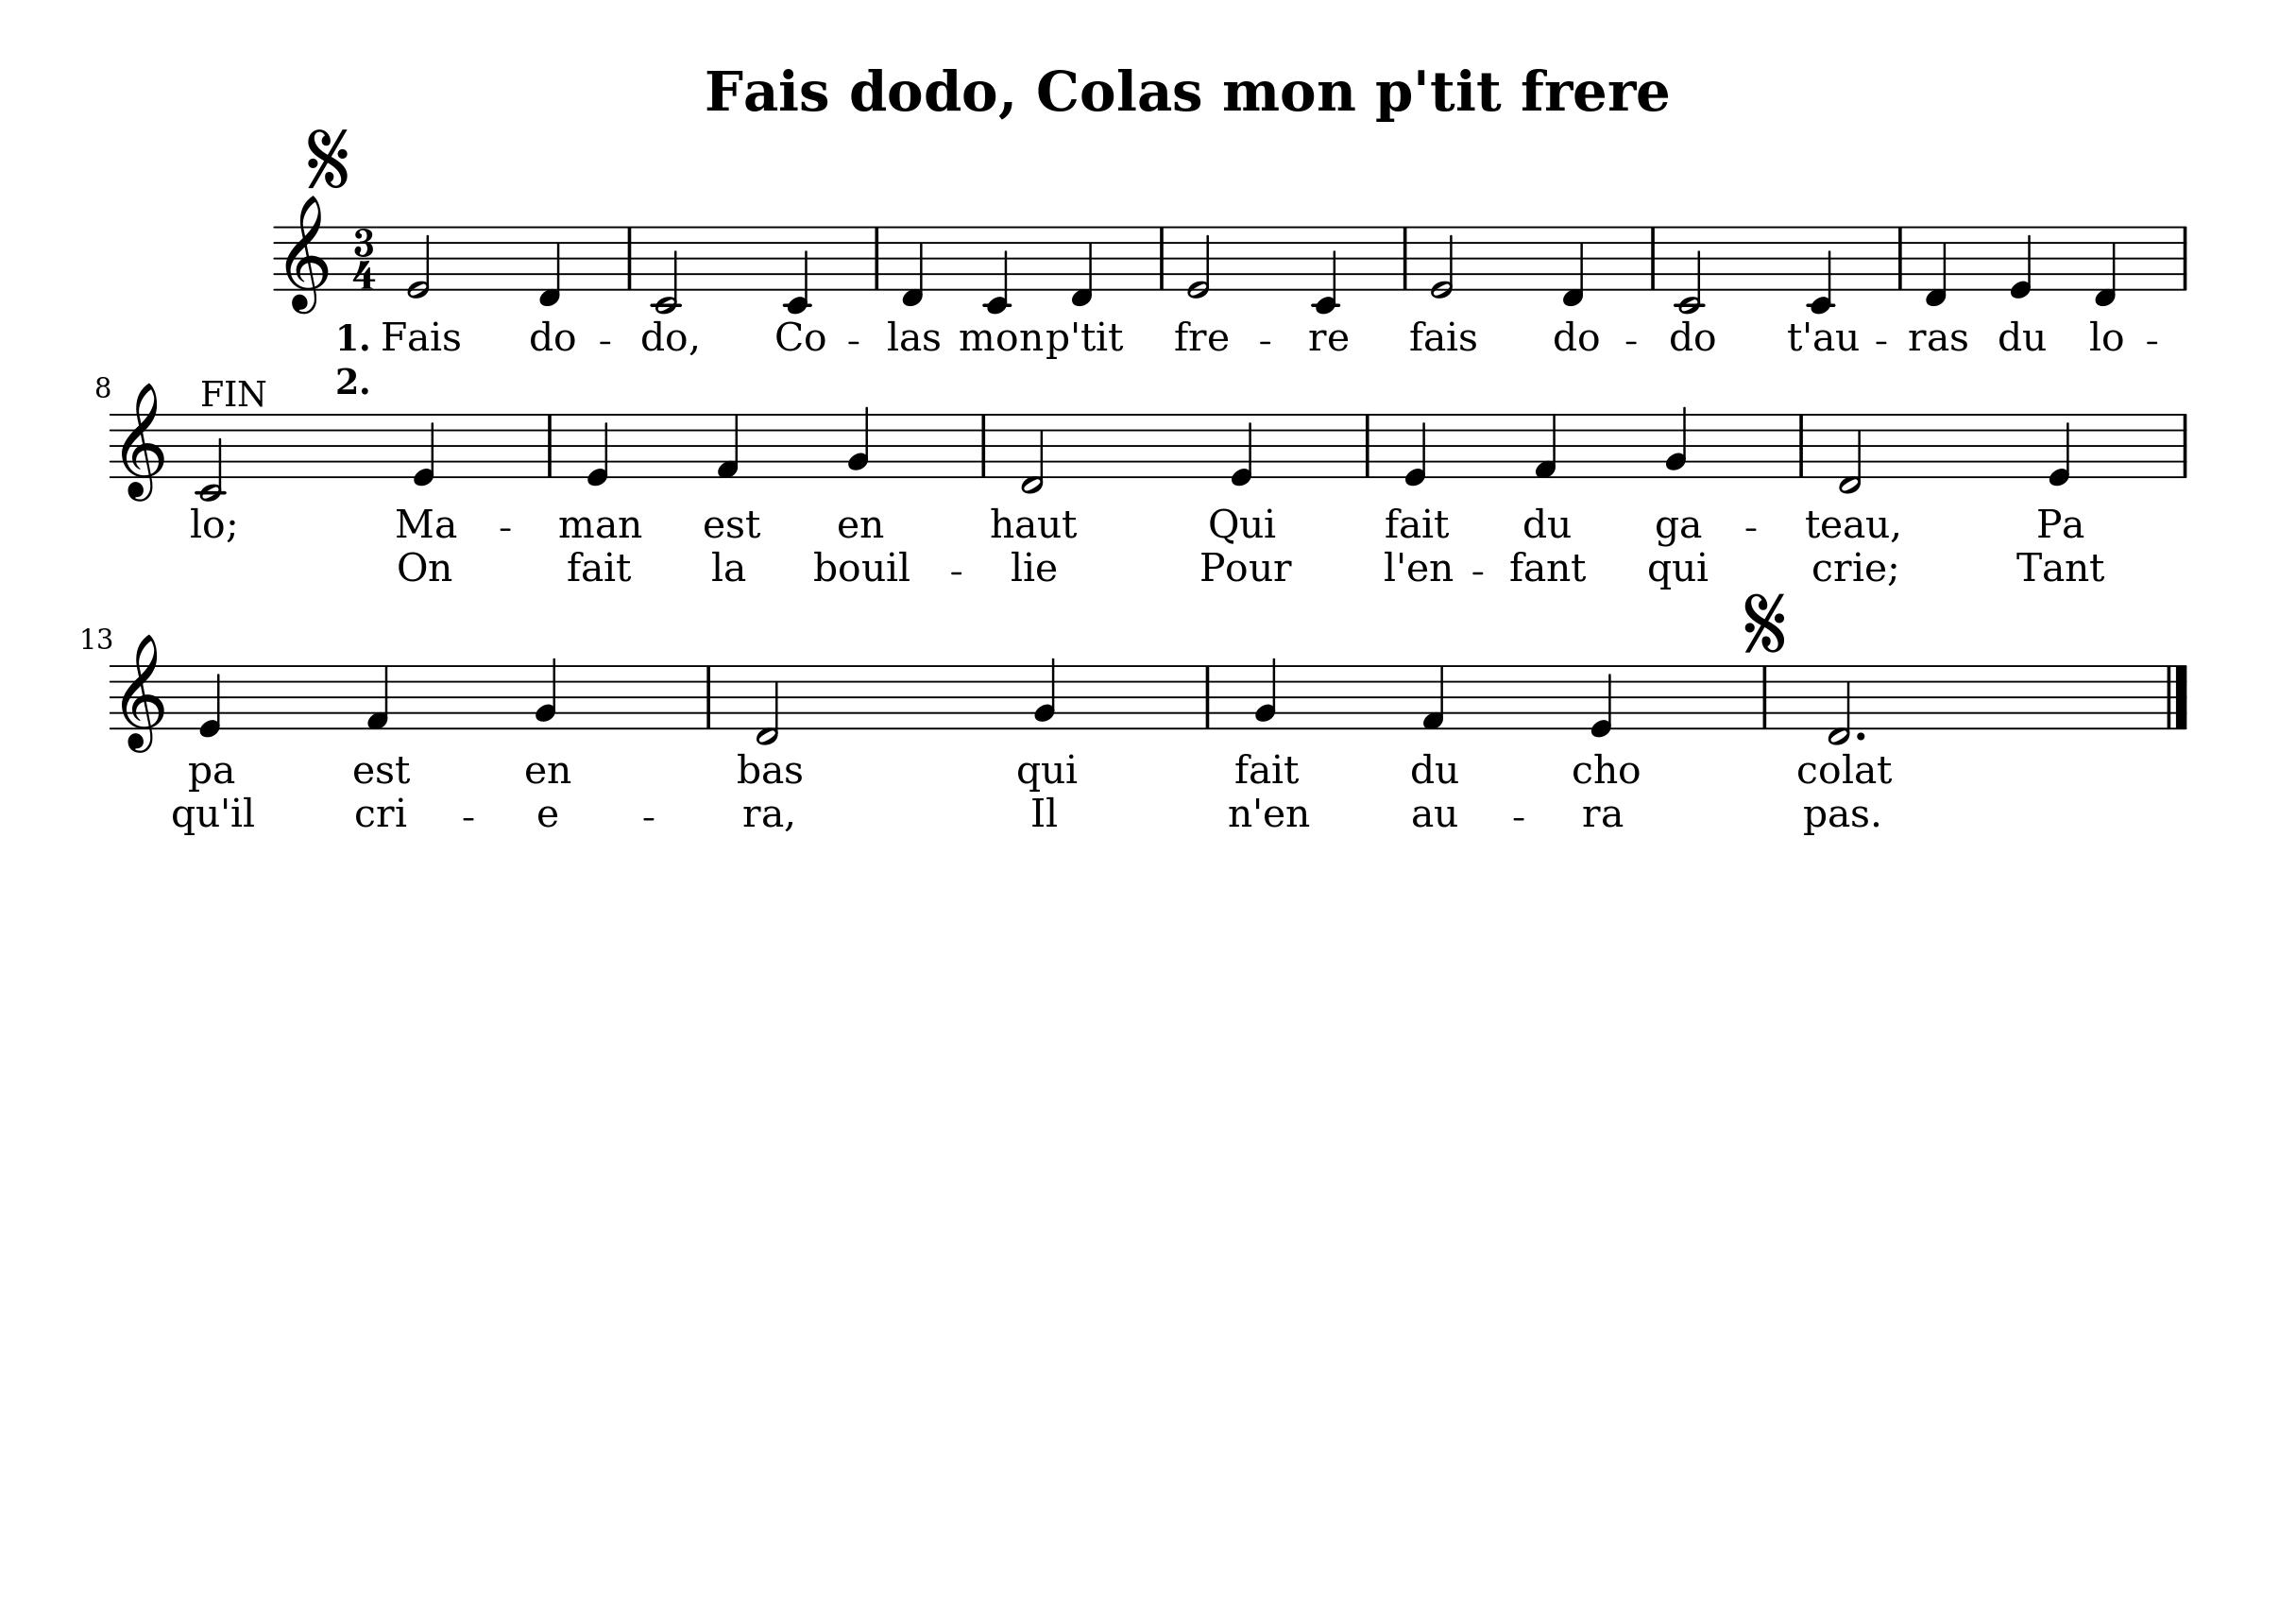1: (79, 624, 93, 652)
2_-1: (754, 661, 782, 747), (1019, 411, 1047, 496), (1836, 411, 1864, 496), (1825, 663, 1853, 745)
2_-2: (197, 411, 227, 503), (653, 223, 682, 315), (1676, 223, 1704, 315)
2_0: (406, 223, 432, 299), (1186, 223, 1212, 299), (1430, 223, 1456, 299)
3: (350, 223, 378, 255), (97, 624, 114, 650)
4: (350, 255, 381, 286)
4_-1: (538, 223, 562, 308), (901, 223, 926, 308), (1072, 223, 1096, 308), (1562, 223, 1586, 308), (1924, 223, 1948, 308), (2092, 223, 2117, 308)
4_-2: (1808, 223, 1836, 315), (783, 223, 812, 313), (984, 223, 1012, 313), (1314, 223, 1340, 315)
4_0: (2008, 223, 2034, 301), (585, 410, 611, 487), (2047, 411, 2073, 487), (197, 663, 223, 738), (1230, 410, 1254, 487), (1404, 410, 1428, 487), (1590, 661, 1614, 738), (411, 411, 436, 487)
4_1: (1534, 411, 1560, 480), (365, 663, 392, 731), (1421, 663, 1448, 731), (717, 411, 741, 480)
4_2: (1664, 404, 1690, 480), (1033, 656, 1059, 731), (1254, 656, 1281, 731), (847, 404, 871, 480), (534, 656, 559, 731)
8: (93, 373, 111, 401)
Final_barline: (2162, 663, 2189, 728)
Gclef: (283, 192, 329, 315), (119, 381, 165, 501), (119, 633, 165, 752)
Segno: (302, 121, 355, 190), (1741, 589, 1788, 652)
Single_barline: (2173, 413, 2194, 476), (697, 664, 718, 728), (1792, 413, 1811, 476), (1755, 664, 1774, 728), (1644, 225, 1662, 290), (541, 413, 559, 476), (1361, 408, 1375, 483), (2177, 225, 2192, 290), (622, 227, 638, 290), (1128, 257, 1138, 339), (1202, 661, 1214, 731), (991, 260, 1001, 330), (829, 262, 840, 332), (980, 413, 989, 483)
TimeSig: (350, 227, 379, 290)
dot: (1855, 729, 1866, 740)
